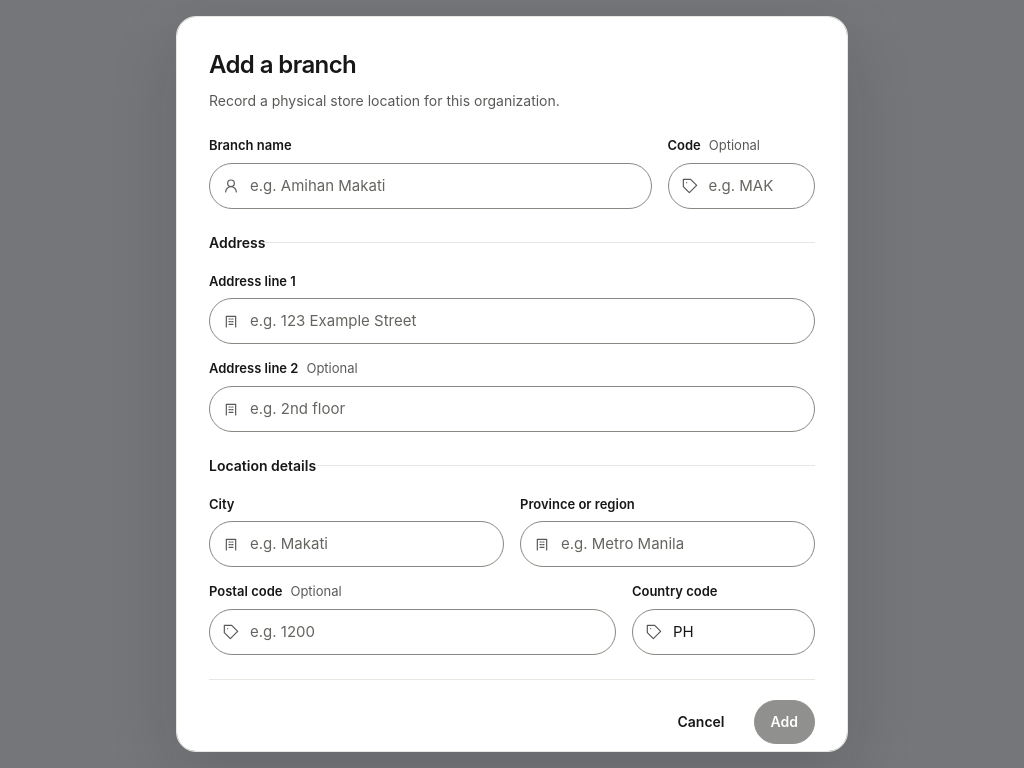
Test case: BranchForm › keeps duplicate-code feedback actionable without losing entered data
Type " Makati Main " into the field labelled "Branch name" at (430, 186), box [209,162,652,208]
Type "mkt-01" into the field labelled "Code" at (741, 186), box [668,162,815,208]
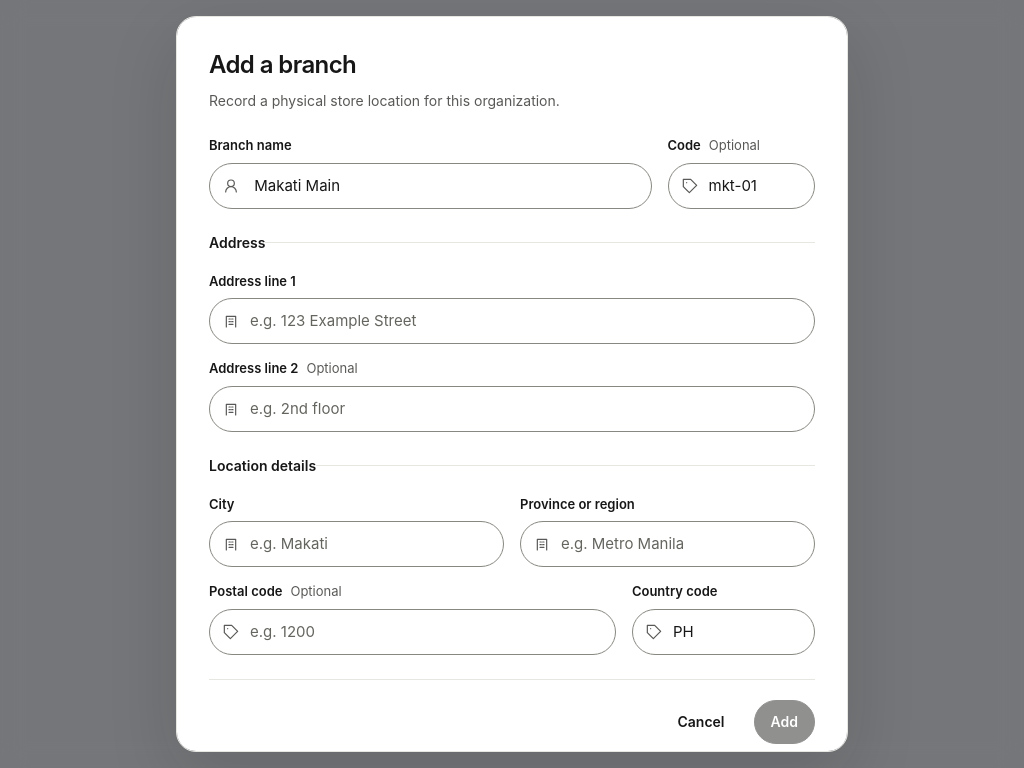
Type "123 Retail Street" into the field labelled "Address line 1" at (512, 321), box [209,298,815,344]
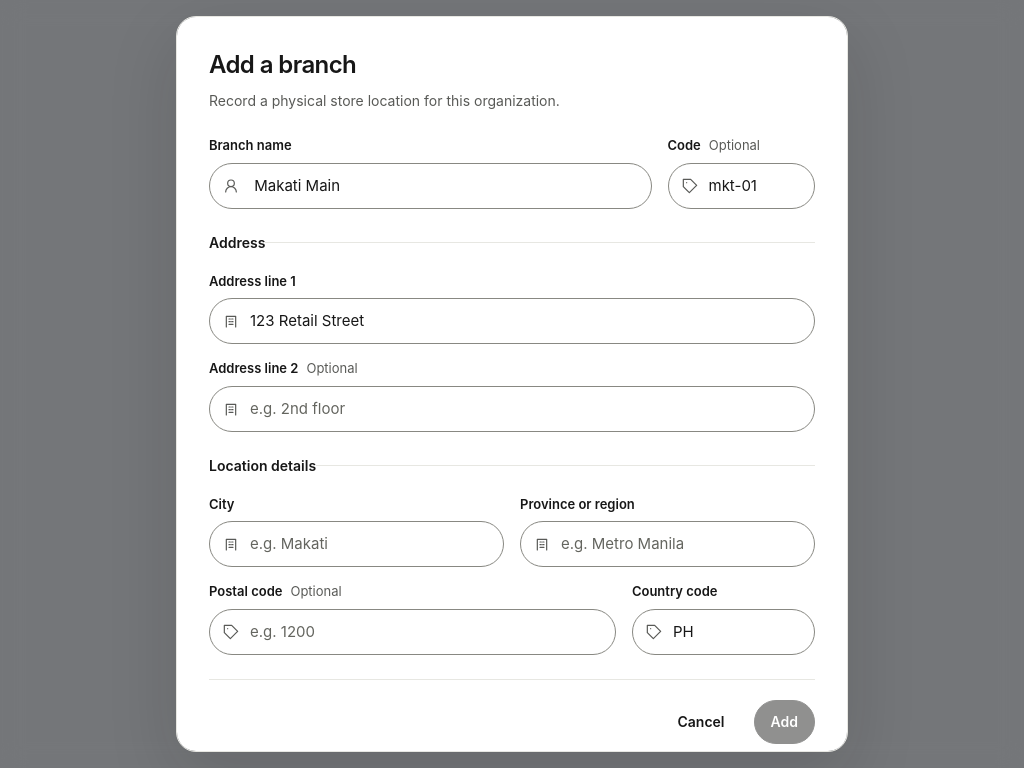
Type "Makati" into the field labelled "City" at (356, 544), box [209,521,504,567]
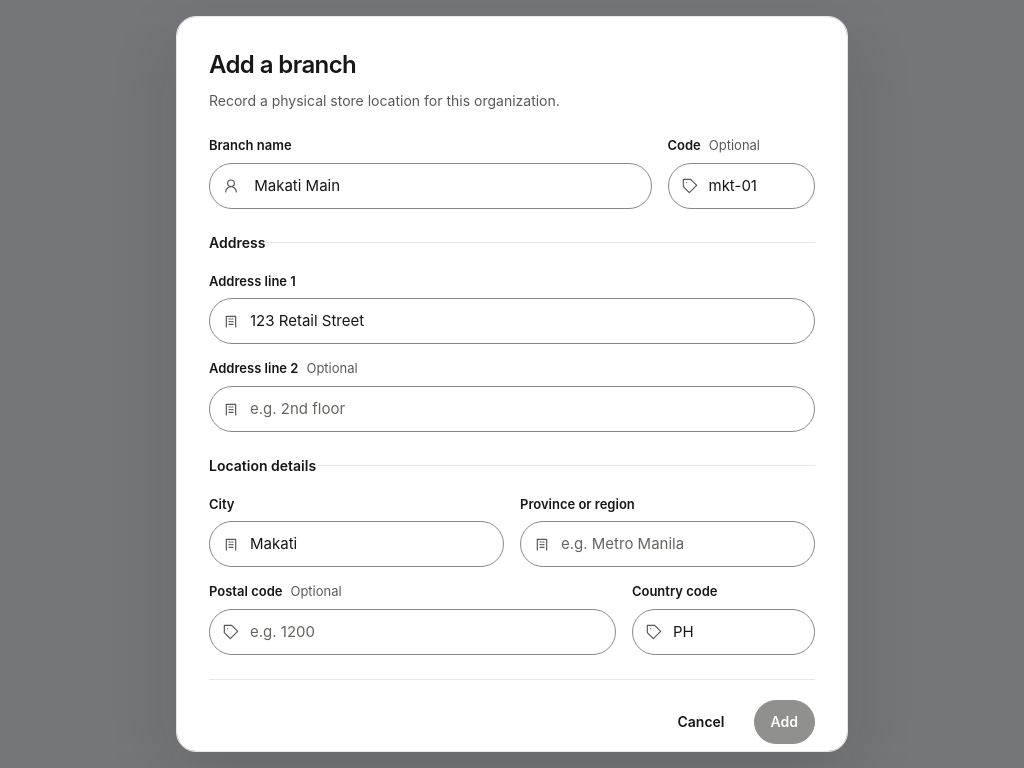
Type "Metro Manila" into the field labelled "Province or region" at (668, 544), box [520,521,815,567]
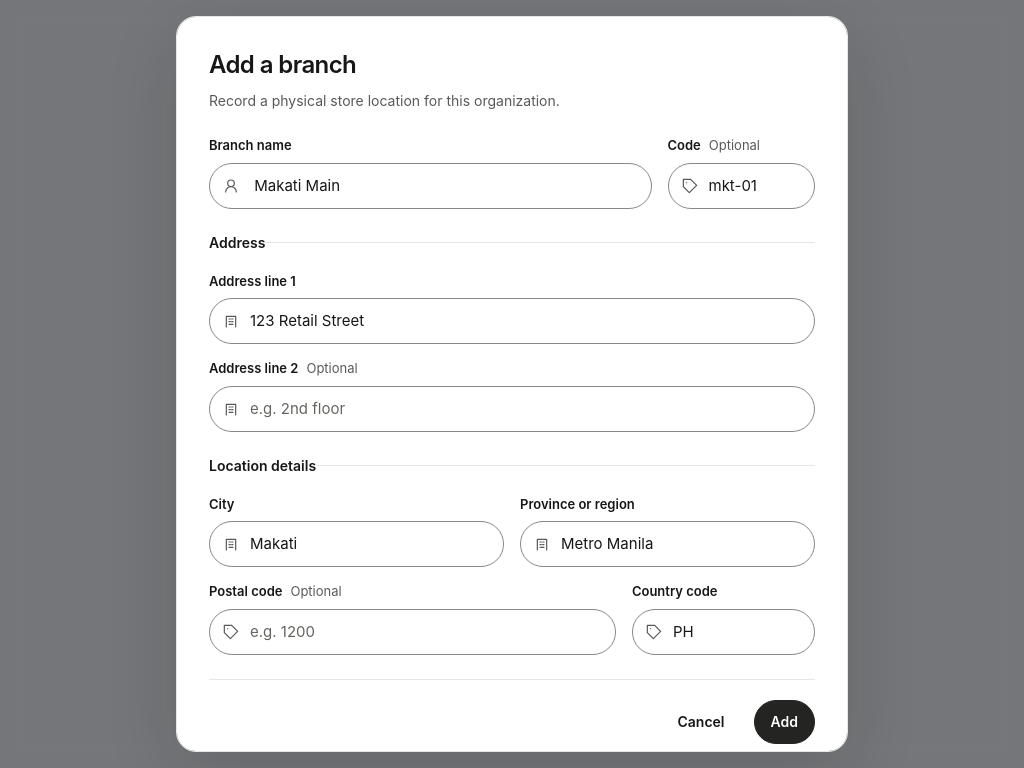
Replace the text in the field labelled "Country code" with "ph" at (723, 632), box [632,609,815,655]
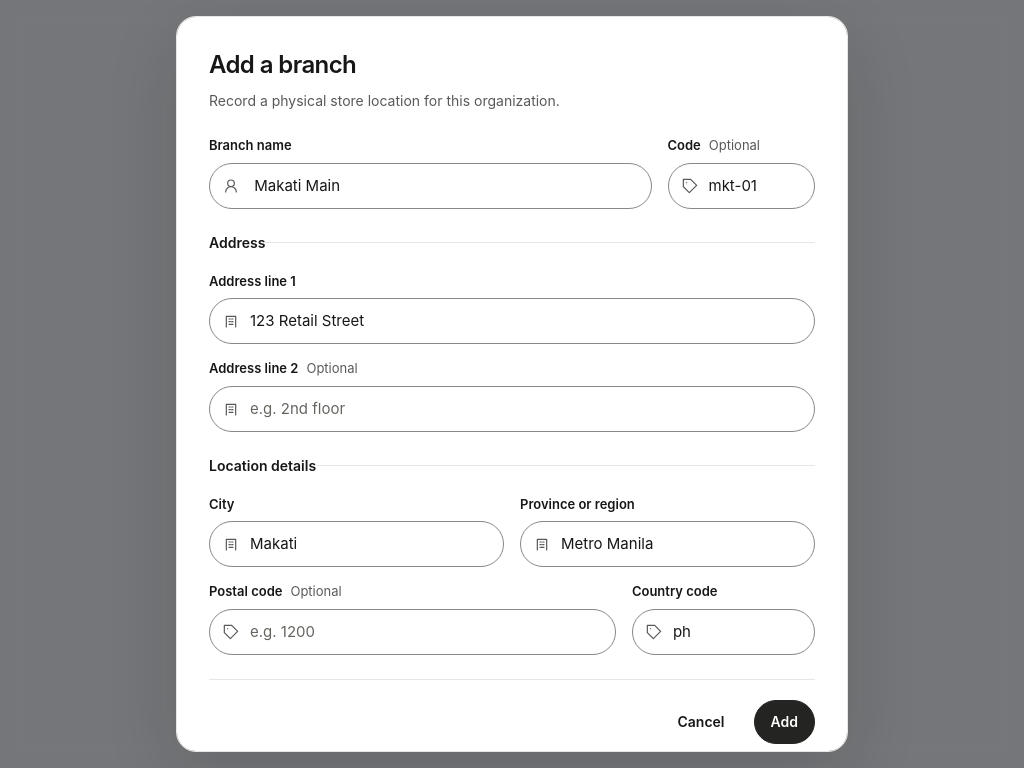
Submit the form named "Add branch", box [209,137,815,744]
(page scrolled)
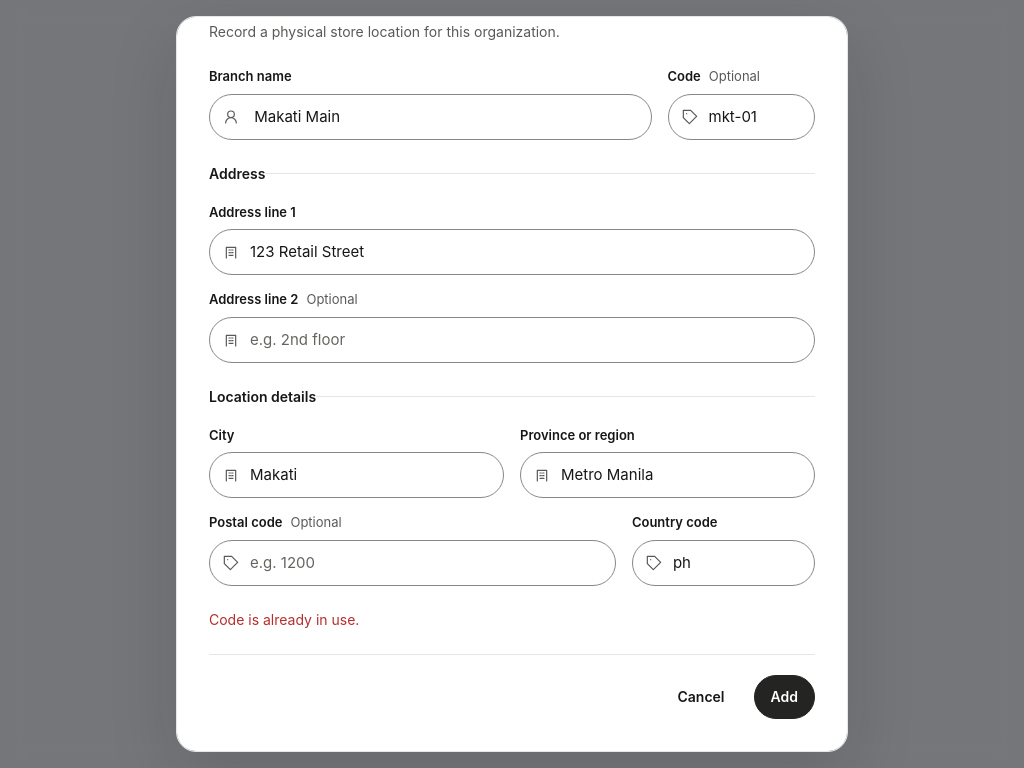
Expected: the button "Add" is enabled, [754,675,815,719]
Expected: the message reads "Code is already in use.", [209,611,359,628]
